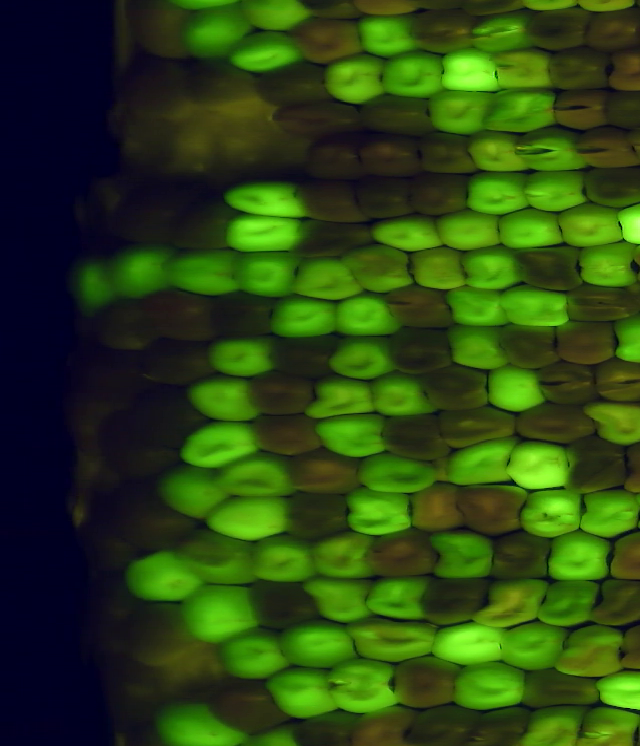fluorescent: (181, 584, 260, 644), (147, 701, 248, 746), (206, 492, 295, 542), (181, 527, 254, 586), (158, 461, 229, 521), (263, 665, 339, 719), (327, 658, 403, 711), (348, 615, 437, 660), (180, 419, 263, 465), (278, 621, 359, 668), (454, 659, 527, 710), (235, 245, 298, 304), (545, 531, 615, 584), (127, 554, 201, 604), (223, 178, 310, 220), (190, 373, 265, 421), (475, 577, 547, 627), (499, 621, 571, 671), (343, 484, 415, 534), (465, 172, 535, 223), (216, 628, 286, 679), (168, 247, 236, 299), (555, 201, 626, 250), (560, 623, 623, 678), (536, 578, 602, 630), (294, 255, 362, 305), (305, 575, 374, 624), (574, 489, 640, 540), (251, 531, 317, 582), (488, 86, 555, 136), (341, 245, 409, 294), (506, 441, 573, 490), (324, 52, 387, 104), (359, 455, 443, 494), (429, 622, 507, 664), (111, 245, 176, 295), (519, 490, 586, 538), (363, 574, 430, 622), (444, 322, 508, 372), (431, 533, 495, 583), (446, 442, 517, 487), (226, 30, 300, 73), (461, 244, 527, 292), (307, 374, 379, 418), (381, 50, 445, 99), (372, 214, 449, 254), (427, 88, 492, 135), (186, 9, 247, 59), (216, 458, 296, 496), (330, 335, 396, 381), (495, 208, 567, 250), (501, 284, 571, 327), (268, 296, 343, 336), (205, 337, 280, 377), (495, 47, 556, 95), (526, 127, 588, 174), (321, 411, 386, 455), (484, 366, 546, 411), (578, 243, 639, 288), (358, 15, 420, 59), (468, 131, 528, 176), (314, 532, 374, 577), (440, 208, 499, 253), (444, 45, 497, 95), (370, 375, 437, 414), (528, 171, 593, 211), (581, 399, 640, 443), (332, 297, 402, 334), (410, 247, 471, 289), (446, 286, 508, 327), (580, 704, 640, 746), (520, 707, 583, 746), (471, 15, 532, 53), (76, 259, 120, 311), (243, 1, 313, 32), (596, 667, 640, 711), (243, 727, 299, 746), (170, 1, 233, 13), (521, 1, 579, 12), (578, 1, 635, 11)
nonfluorescent: (99, 482, 191, 547), (92, 417, 186, 474), (133, 388, 210, 448), (125, 600, 196, 664), (151, 647, 230, 703), (126, 1, 197, 60), (212, 677, 291, 730), (520, 663, 608, 710), (71, 518, 141, 576), (453, 481, 529, 533), (138, 288, 212, 340), (137, 337, 215, 386), (395, 657, 465, 709), (498, 321, 565, 375), (287, 16, 369, 60), (182, 60, 262, 105), (128, 186, 187, 246), (436, 406, 518, 449), (276, 99, 368, 136), (94, 299, 159, 351), (253, 64, 335, 105), (565, 439, 629, 491), (77, 177, 126, 244), (419, 366, 495, 409), (517, 247, 588, 293), (554, 318, 619, 368), (515, 404, 596, 444), (380, 413, 450, 459), (125, 58, 188, 109), (359, 95, 437, 136), (386, 286, 456, 331), (390, 328, 457, 375), (406, 705, 482, 746), (250, 413, 324, 455), (425, 575, 488, 624), (299, 218, 376, 258), (208, 292, 277, 336), (285, 452, 362, 491), (264, 335, 339, 374), (544, 49, 612, 92), (354, 135, 420, 179), (407, 170, 471, 215), (351, 174, 419, 216), (577, 126, 640, 171), (252, 580, 315, 625), (552, 287, 640, 319), (536, 363, 600, 407), (371, 531, 436, 574), (410, 10, 478, 51), (286, 490, 345, 537), (297, 177, 361, 220), (306, 136, 363, 184), (489, 534, 551, 578), (253, 372, 316, 415), (416, 131, 477, 175), (409, 484, 466, 531), (352, 705, 417, 746), (182, 205, 238, 252), (526, 11, 590, 50), (472, 706, 534, 746), (553, 86, 609, 129), (587, 6, 640, 51), (596, 576, 640, 630), (592, 355, 640, 403), (115, 698, 163, 746), (584, 167, 640, 208), (294, 711, 363, 744), (103, 576, 143, 624), (605, 529, 640, 580), (602, 86, 640, 129), (295, 1, 370, 22), (354, 1, 424, 15), (462, 1, 527, 13), (414, 1, 465, 10)
